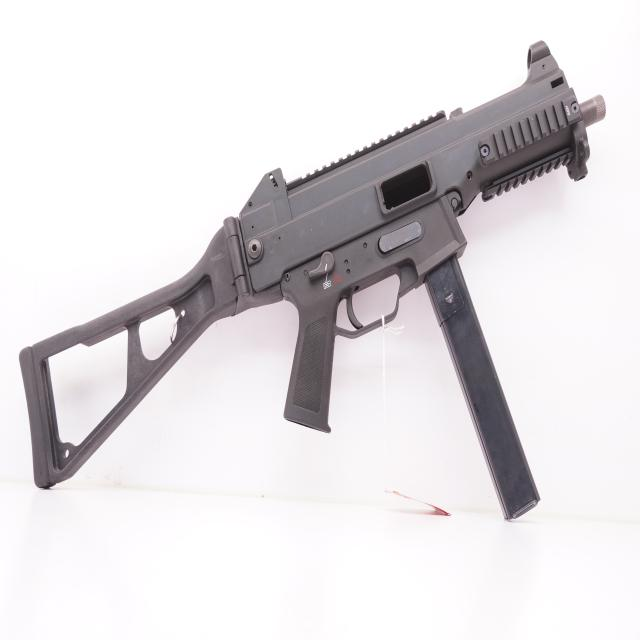SMG: (17, 40, 608, 524)
